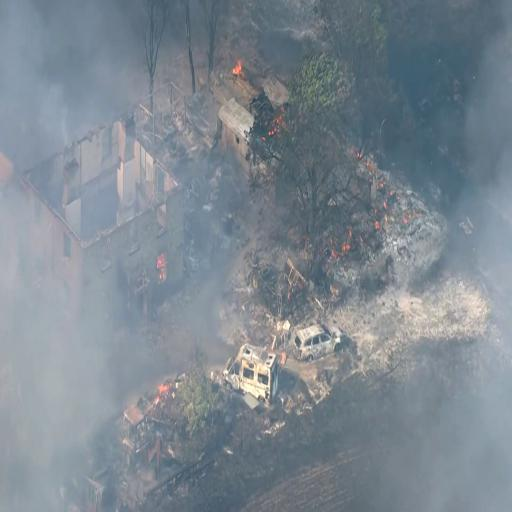smoke: (0, 248, 106, 512), (0, 0, 92, 123)
